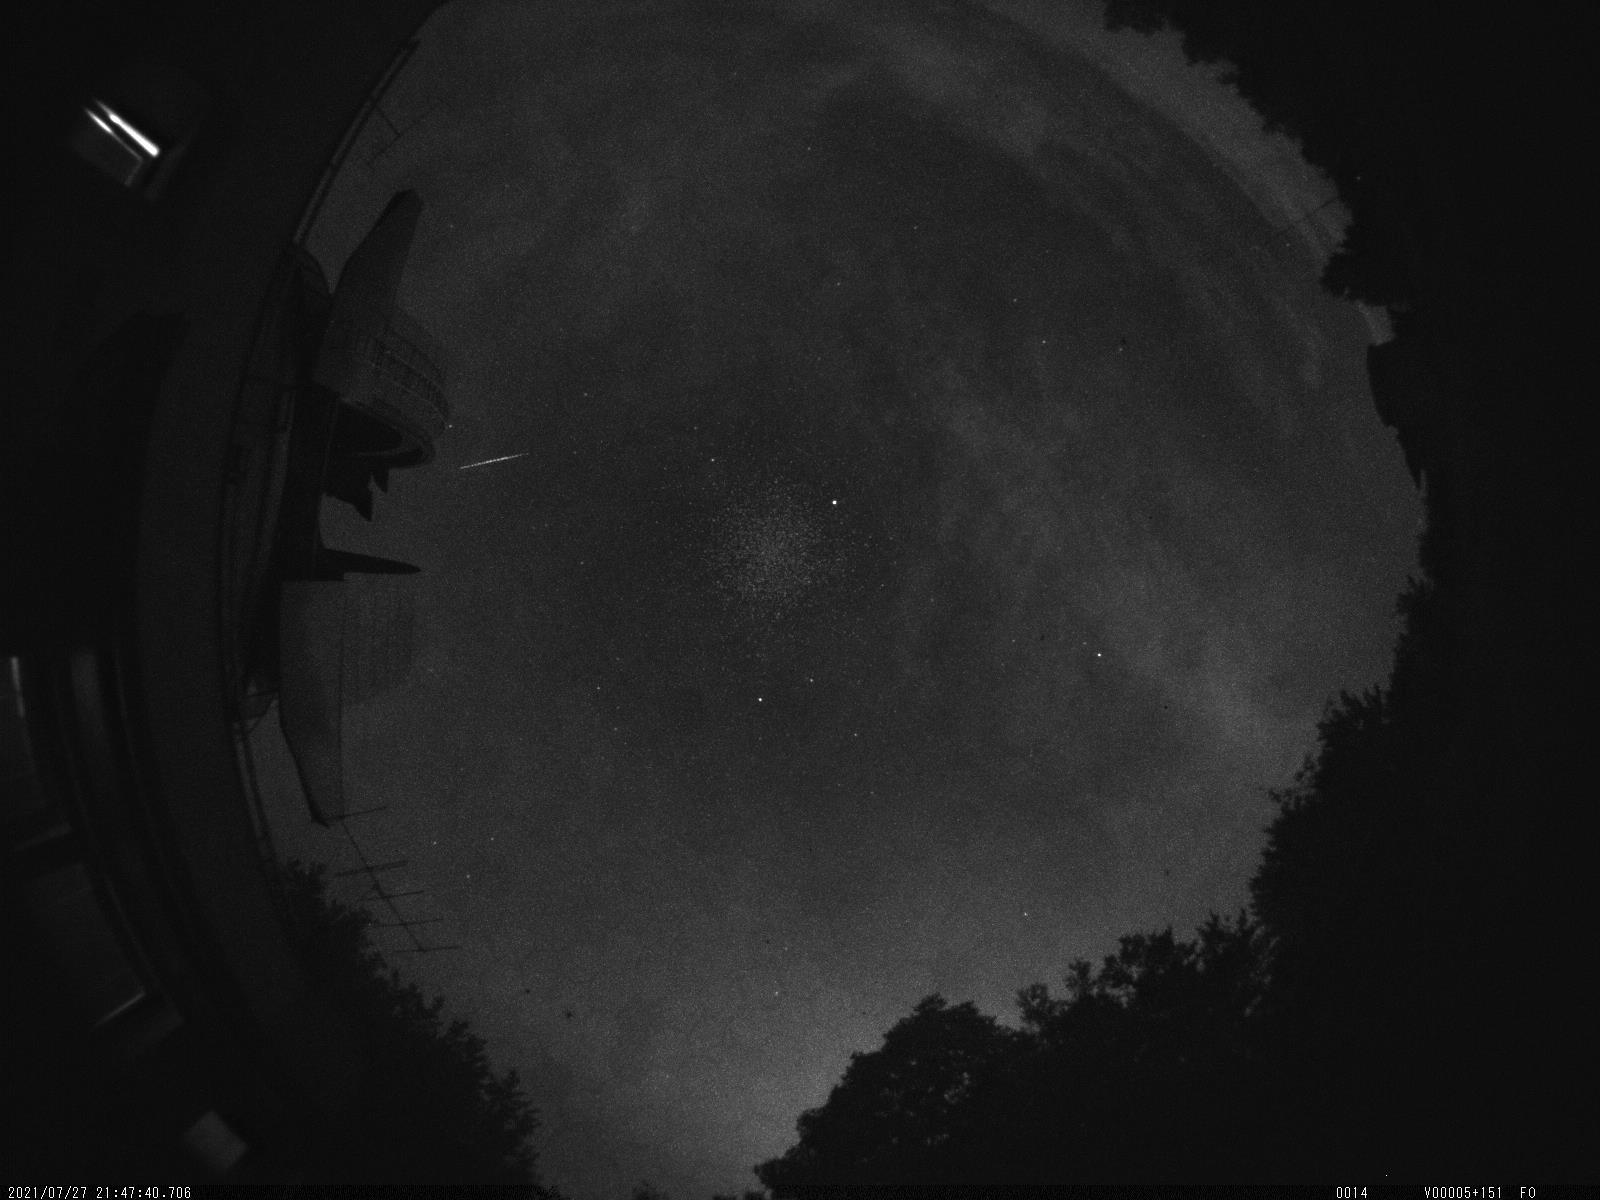Meteor: (448, 440, 544, 488)
